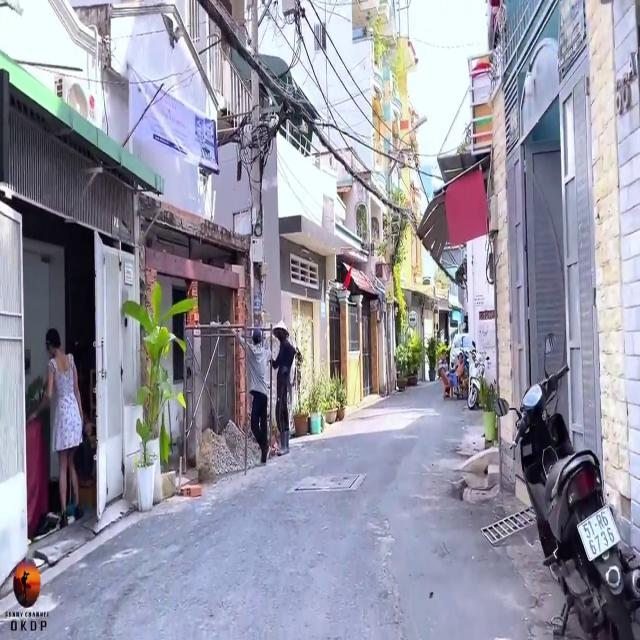bien_trang: (577, 504, 624, 570)
